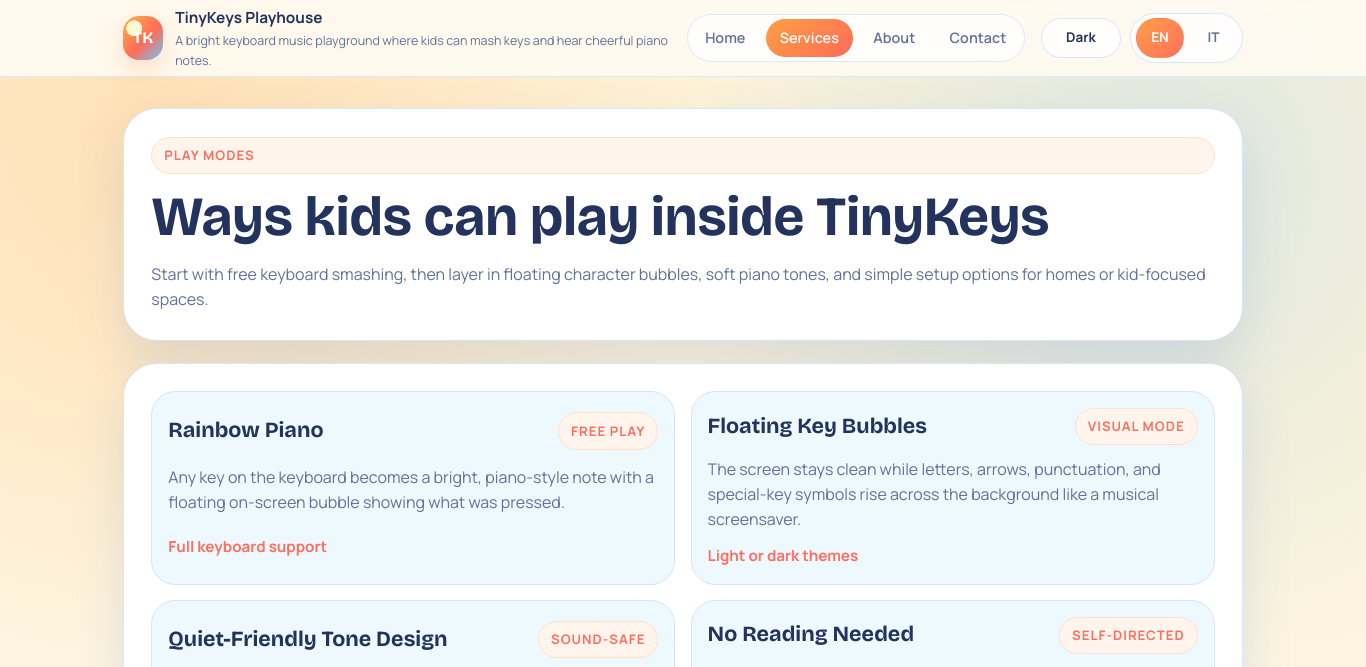
Scenario: site localization › renders /services in Italian after the header toggle
Click the button with aria-label "Switch website to Italian": (1214, 38) [1190,18,1238,58]
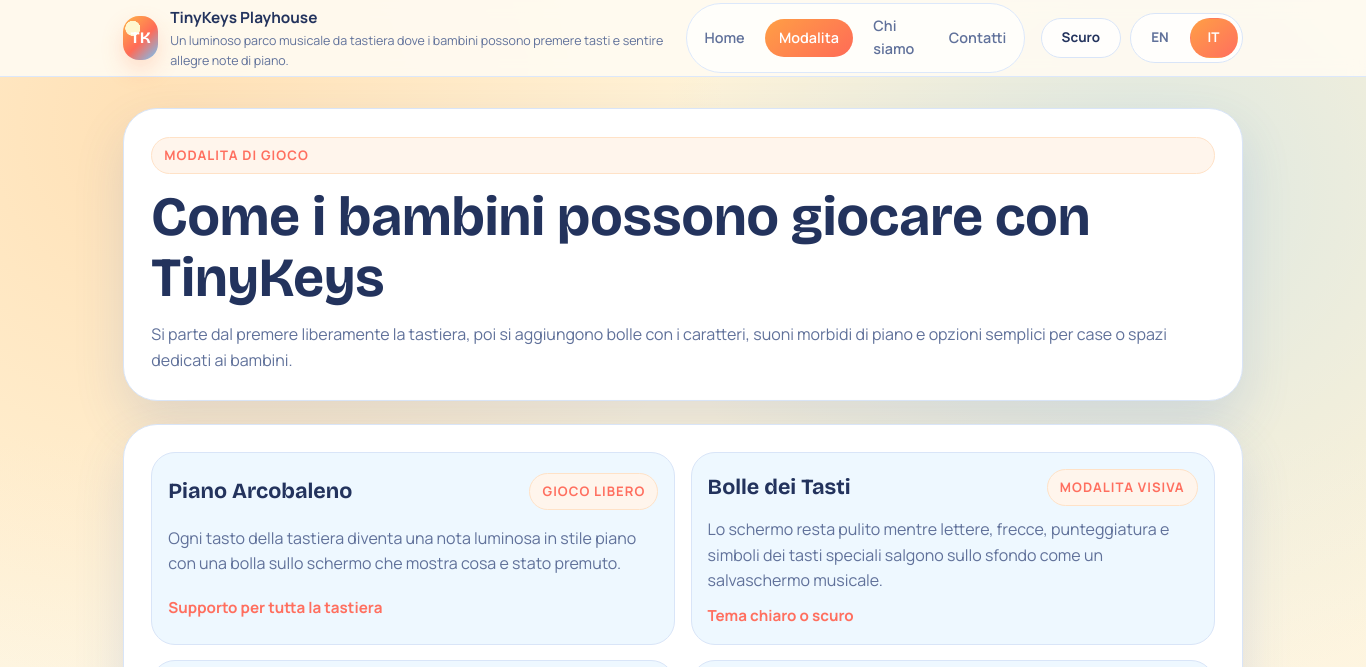
Now the heading "Come i bambini possono giocare con TinyKeys" is shown, box [151,187,1215,309]
Now the link "Modalita" is shown, box [766,19,852,56]
Now the link "Chi siamo" is shown, box [873,16,914,58]
